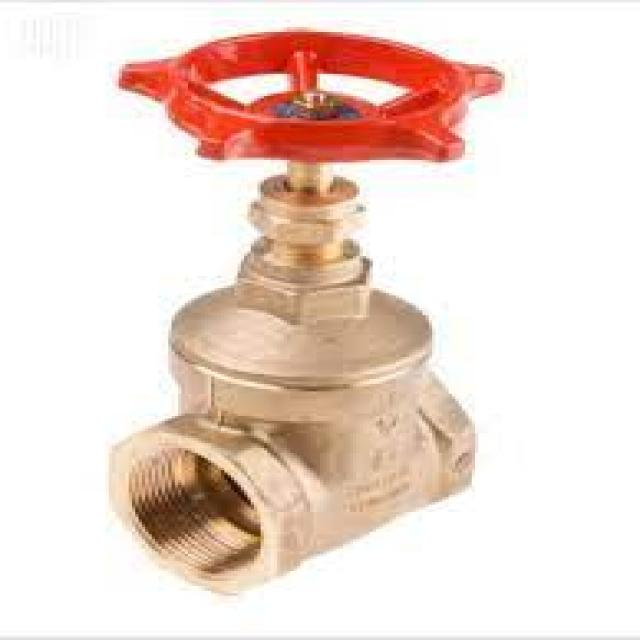Wheel Handle Valve Threaded: (90, 9, 512, 612)
